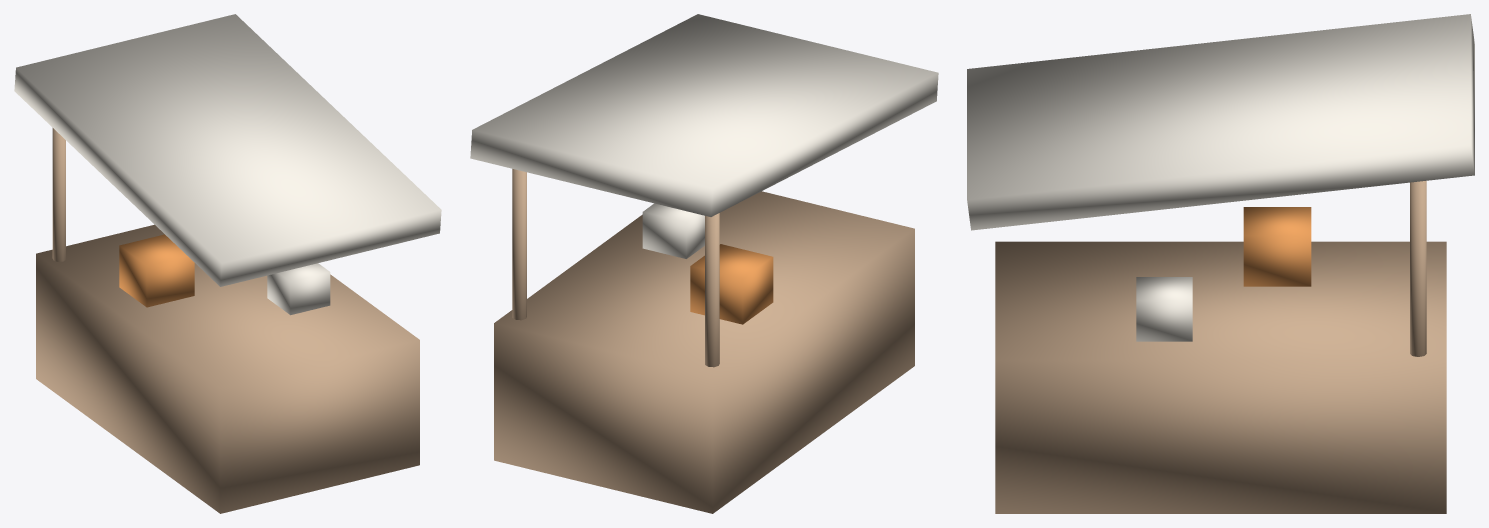
File: lanna_craft_stall.glb
The picture shows the model from 3 angles, left to right: view 1: azimuth 30°, elevation 25°; view 2: azimuth 150°, elevation 25°; view 3: azimuth 270°, elevation 25°; orthographic projection. The views are drawn at different scales.
Parts seen in each view (by area): view 1: table, roof, basket1, basket2, pole_l; view 2: table, roof, basket1, basket2, pole_l, pole_r; view 3: table, roof, basket1, basket2, pole_r.
Part boxes in pixels (box(x1,y1,x2,y2)): table: box(36, 224, 419, 513); roof: box(14, 14, 441, 286); basket1: box(119, 234, 194, 307); basket2: box(267, 263, 330, 315); pole_l: box(52, 128, 65, 261); table: box(494, 191, 914, 513); roof: box(470, 14, 938, 216); basket1: box(690, 244, 773, 324); basket2: box(642, 203, 704, 258); pole_l: box(705, 213, 719, 367); pole_r: box(512, 169, 526, 320); table: box(995, 241, 1446, 513); roof: box(967, 14, 1474, 230); basket1: box(1243, 207, 1311, 286); basket2: box(1136, 277, 1192, 341); pole_r: box(1410, 180, 1426, 356).
Size of the model in its own units: 0.55 by 0.7337 by 0.9007.
